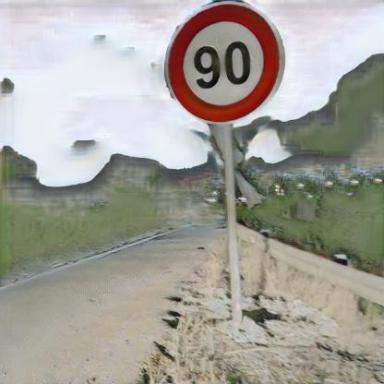Speed_limit_90: (168, 6, 279, 122)
